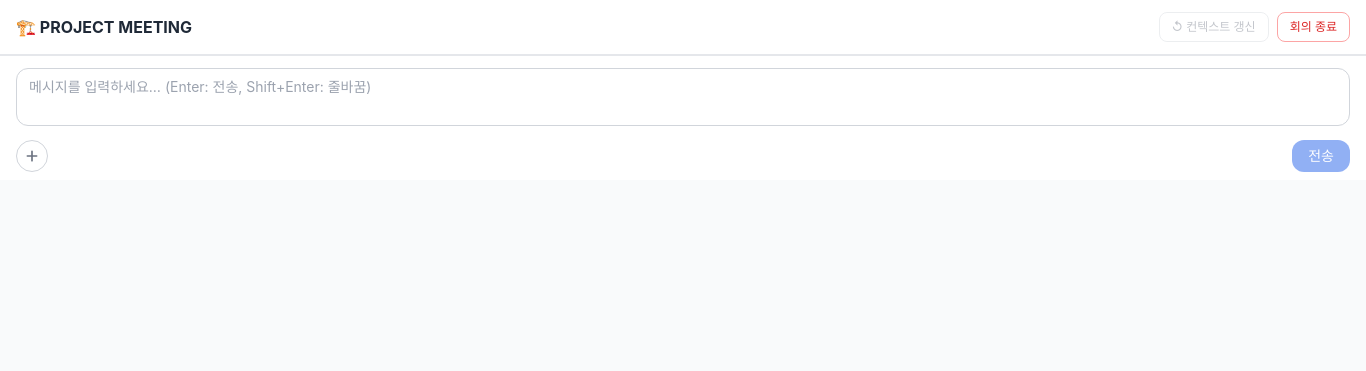
Scenario: MeetingApp › 메시지 입력 후 전송하면 메시지 목록에 추가되어야 한다
Step 1. Type "안녕하세요" into the text box with placeholder "메시지를 입력하세요… (Enter: 전송, Shift+Enter: 줄바꿈)" → (683, 97), box x1=16 y1=68 x2=1350 y2=126
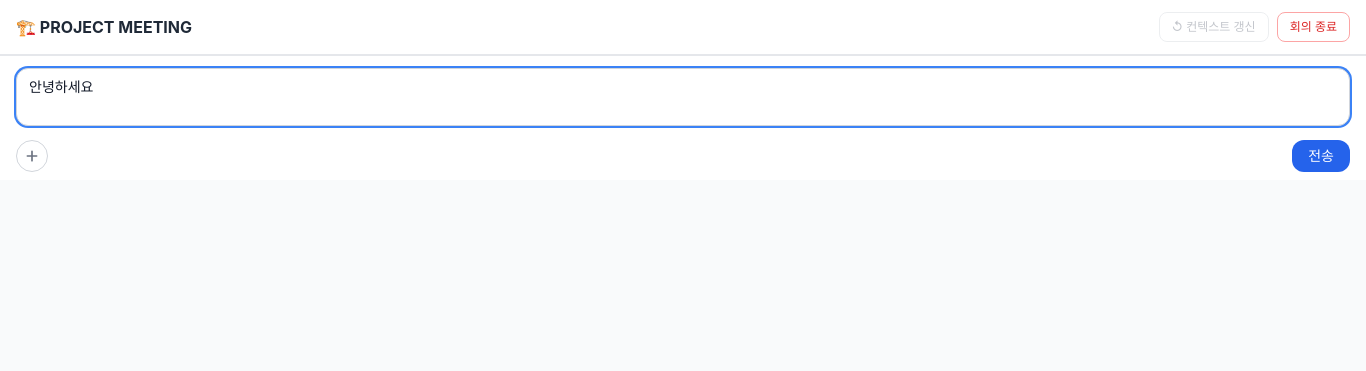
Step 2. Click the button "전송" → (1321, 156), box x1=1292 y1=140 x2=1350 y2=172
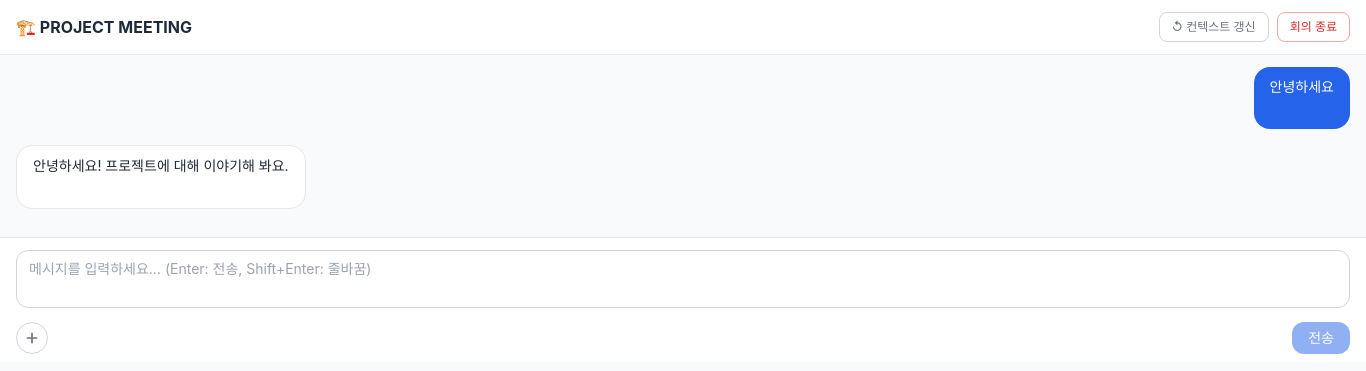
Result: the element with test id "message-list" is shown at x1=0 y1=55 x2=1365 y2=237
Result: the text "안녕하세요" is shown at x1=1254 y1=67 x2=1350 y2=129
